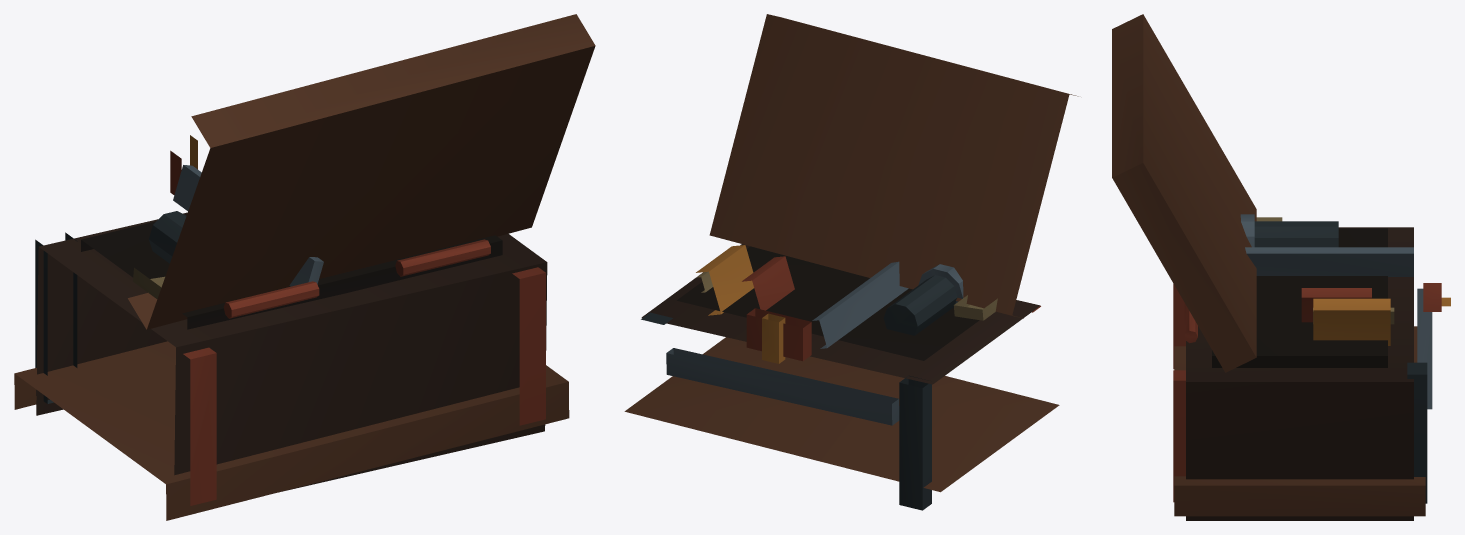
The model's file is bedside_survival_kit_open.glb.
The picture shows the model from 3 angles, left to right: view 1: azimuth 30°, elevation 25°; view 2: azimuth 150°, elevation 25°; view 3: azimuth 270°, elevation 25°; orthographic projection. The views are drawn at different scales.
Visible parts, largest first — view 1: BedsideSurvivalKitOpen_Mesh; view 2: BedsideSurvivalKitOpen_Mesh; view 3: BedsideSurvivalKitOpen_Mesh.
Boxes of the visible parts, x1=… form: BedsideSurvivalKitOpen_Mesh: x1=14, y1=14, x2=595, y2=520; BedsideSurvivalKitOpen_Mesh: x1=624, y1=14, x2=1078, y2=510; BedsideSurvivalKitOpen_Mesh: x1=1112, y1=14, x2=1450, y2=520.
Size of the model in its own units: 1.15 by 1.19 by 1.01.
